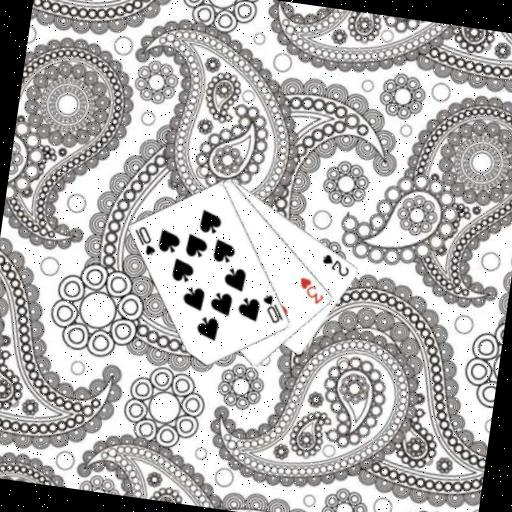10S: (129, 222, 160, 258), (257, 291, 288, 326)
2S: (317, 250, 353, 278)
3H: (295, 274, 329, 307)
